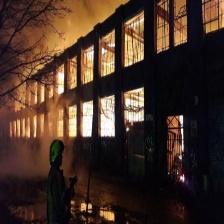fire: (82, 98, 152, 137), (84, 39, 114, 63)
